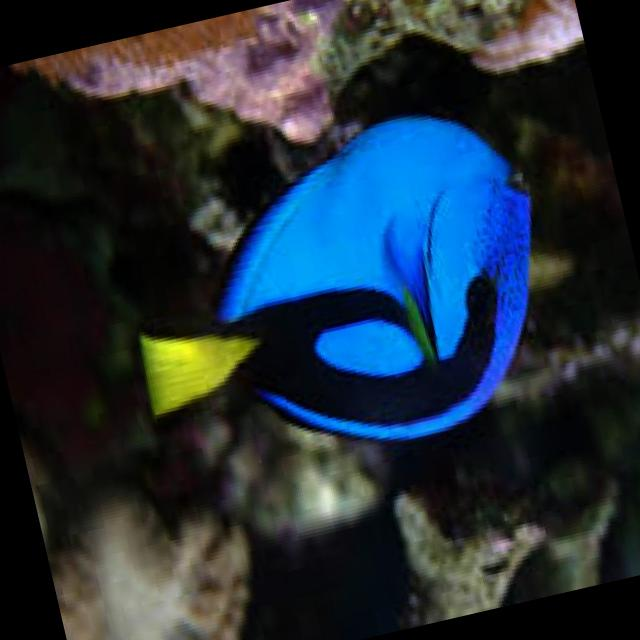BlueTang: (96, 88, 578, 498)
